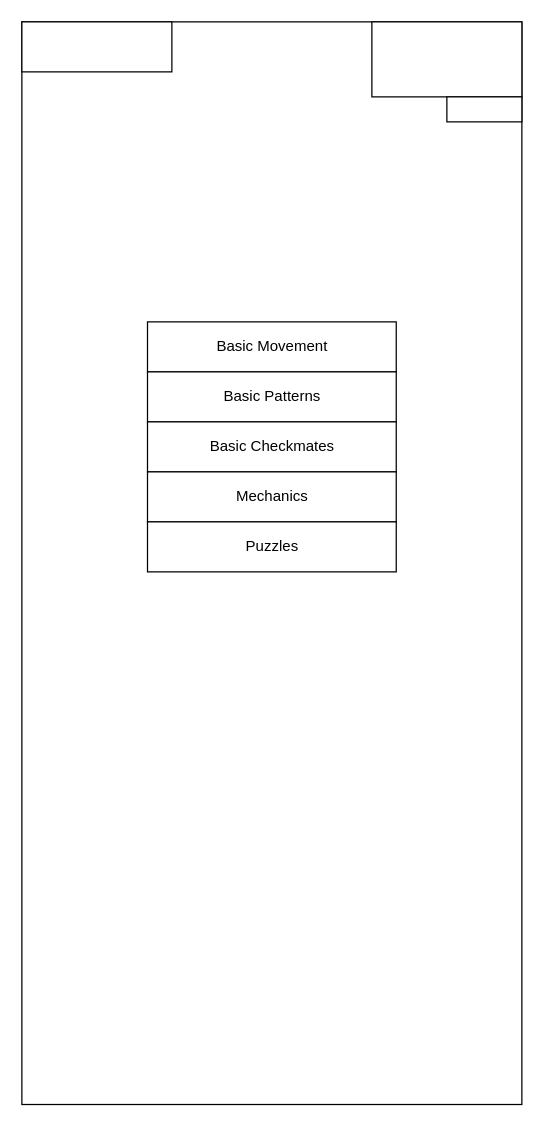
The diagram is 544 pixels wide and 1128 high, and some of its shapes have lost their labels. The centre of each missing label's shape, as x and y in pixels:
"Learn" goes at (96,46).
"Logo" goes at (446,59).
"Menu" goes at (484,109).
